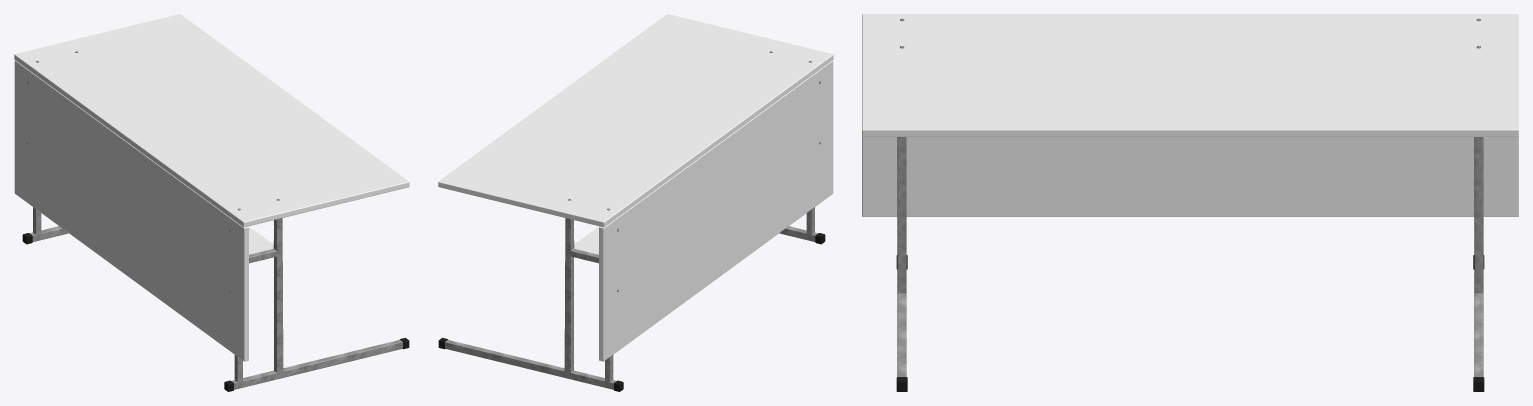
The picture shows the model from 3 angles, left to right: view 1: azimuth 30°, elevation 25°; view 2: azimuth 150°, elevation 25°; view 3: azimuth 270°, elevation 25°; orthographic projection. The views are drawn at different scales.
Parts seen in each view (by area): view 1: Table_Baked; view 2: Table_Baked; view 3: Table_Baked.
Boxes of the visible parts, box(x1,y1,x2,y2) form: Table_Baked: box(14, 14, 409, 391); Table_Baked: box(438, 14, 833, 391); Table_Baked: box(862, 14, 1518, 391).
Bounding box in the file's own units: 0.5662 × 0.5333 × 1.24.
1 material, 1 textured.
